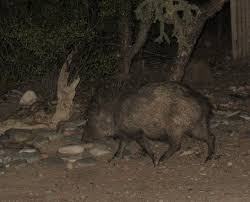javelina: (77, 74, 222, 168)
